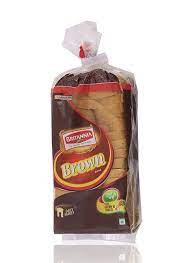bread: (43, 24, 144, 239)
